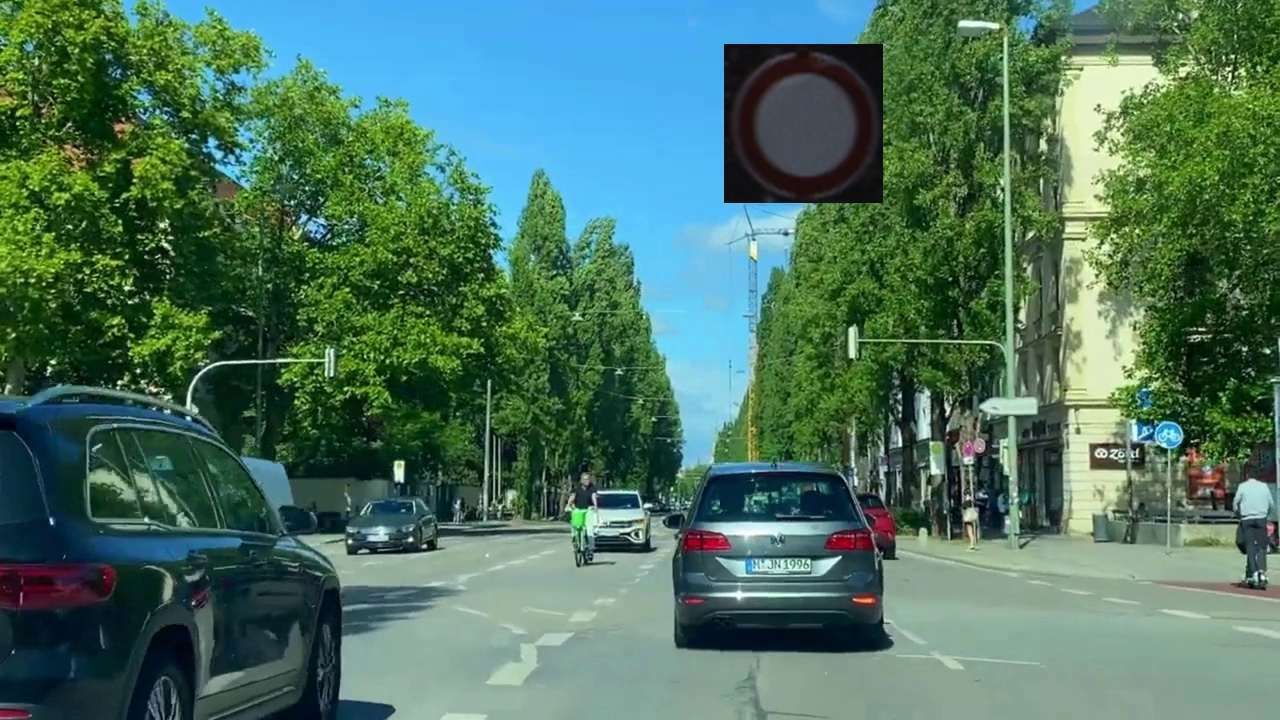No vehicles: (724, 44, 883, 203)
